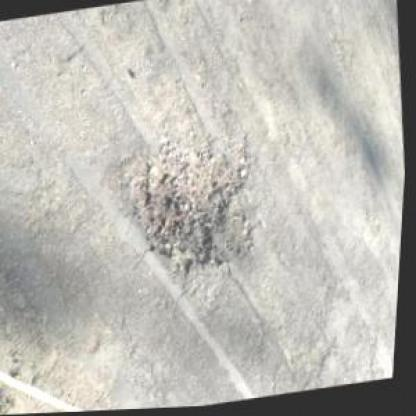pothole: (122, 136, 261, 280)
